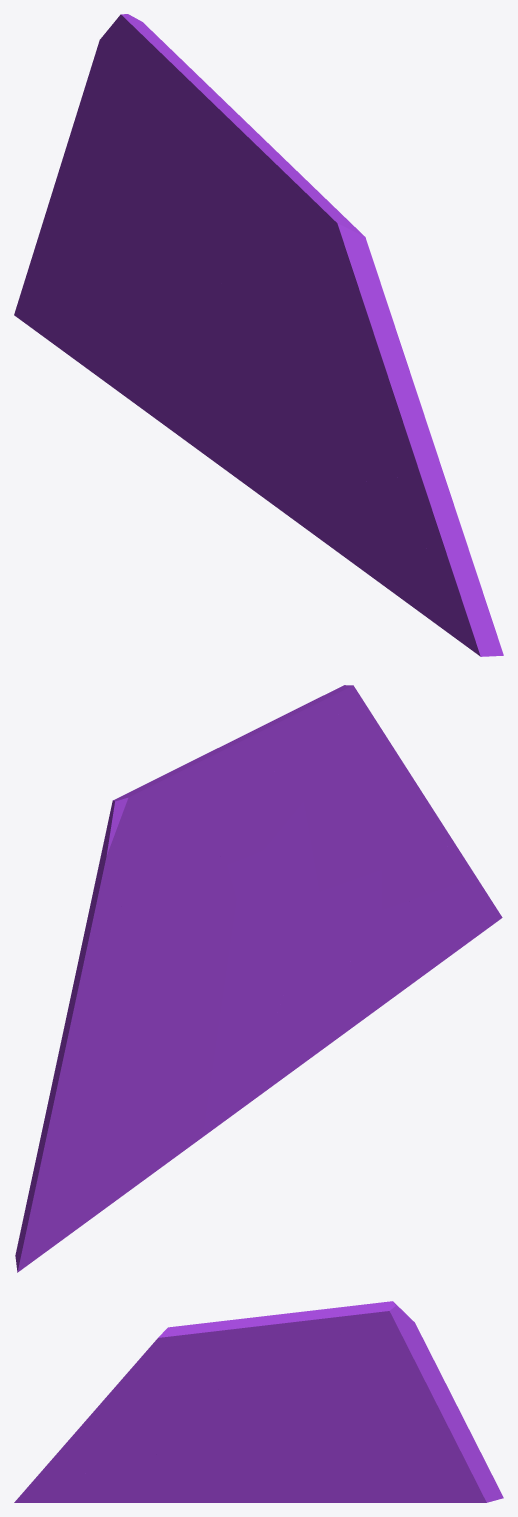
File: Window_14_8_chunks.fbx
3 views of the same model, one above another, from view 1: azimuth 30°, elevation 25°; view 2: azimuth 150°, elevation 25°; view 3: azimuth 270°, elevation 25° (orthographic). The views are drawn at different scales.
Parts seen in each view (by area): view 1: Window_14_8_2, Window_14_8_7, Window_14_8_5, Window_14_8_3, Window_14_8_14, Window_14_8_8, Window_14_8_12, Window_14_8_4, Window_14_8_9, Window_14_8_13, Window_14_8_15, Window_14_8_10 (+1 smaller); view 2: Window_14_8_2, Window_14_8_5, Window_14_8_3, Window_14_8_7, Window_14_8_14, Window_14_8_8, Window_14_8_4, Window_14_8_12, Window_14_8_13, Window_14_8_9, Window_14_8_1, Window_14_8_10 (+2 smaller); view 3: Window_14_8_2, Window_14_8_3, Window_14_8_5, Window_14_8_7, Window_14_8_13, Window_14_8_8, Window_14_8_4, Window_14_8_14, Window_14_8_15, Window_14_8_9, Window_14_8_12, Window_14_8_10 (+3 smaller).
Part boxes in pixels (x1,y1,x2,y2): Window_14_8_2: (14, 69, 150, 398); Window_14_8_7: (289, 265, 454, 519); Window_14_8_5: (192, 255, 304, 475); Window_14_8_3: (128, 191, 224, 445); Window_14_8_14: (344, 480, 503, 656); Window_14_8_8: (148, 41, 260, 245); Window_14_8_12: (251, 374, 364, 491); Window_14_8_4: (90, 14, 173, 159); Window_14_8_9: (242, 193, 380, 282); Window_14_8_13: (233, 450, 351, 556); Window_14_8_15: (364, 440, 487, 607); Window_14_8_10: (239, 128, 366, 242); Window_14_8_2: (15, 900, 159, 1272); Window_14_8_5: (203, 802, 319, 1136); Window_14_8_3: (136, 885, 236, 1185); Window_14_8_7: (304, 717, 454, 891); Window_14_8_14: (360, 877, 502, 1021); Window_14_8_8: (141, 736, 271, 864); Window_14_8_4: (89, 783, 182, 913); Window_14_8_12: (264, 870, 381, 1051); Window_14_8_13: (246, 943, 368, 1105); Window_14_8_9: (254, 695, 373, 853); Window_14_8_1: (153, 814, 232, 934); Window_14_8_10: (237, 685, 359, 773); Window_14_8_2: (367, 1341, 503, 1502); Window_14_8_3: (283, 1372, 391, 1502); Window_14_8_5: (207, 1375, 318, 1502); Window_14_8_7: (65, 1356, 194, 1444); Window_14_8_13: (136, 1453, 278, 1502); Window_14_8_8: (256, 1304, 364, 1388); Window_14_8_4: (328, 1301, 423, 1380); Window_14_8_14: (14, 1464, 144, 1502); Window_14_8_15: (31, 1429, 147, 1483); Window_14_8_9: (142, 1340, 268, 1385); Window_14_8_12: (147, 1422, 246, 1468); Window_14_8_10: (156, 1315, 269, 1345).
Size of the model in its own units: 27.2 by 532 by 1200.
